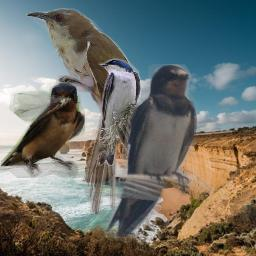Cuckoo: (26, 7, 140, 214)
Swallow: (105, 64, 197, 238), (0, 82, 85, 178), (95, 58, 141, 166)
